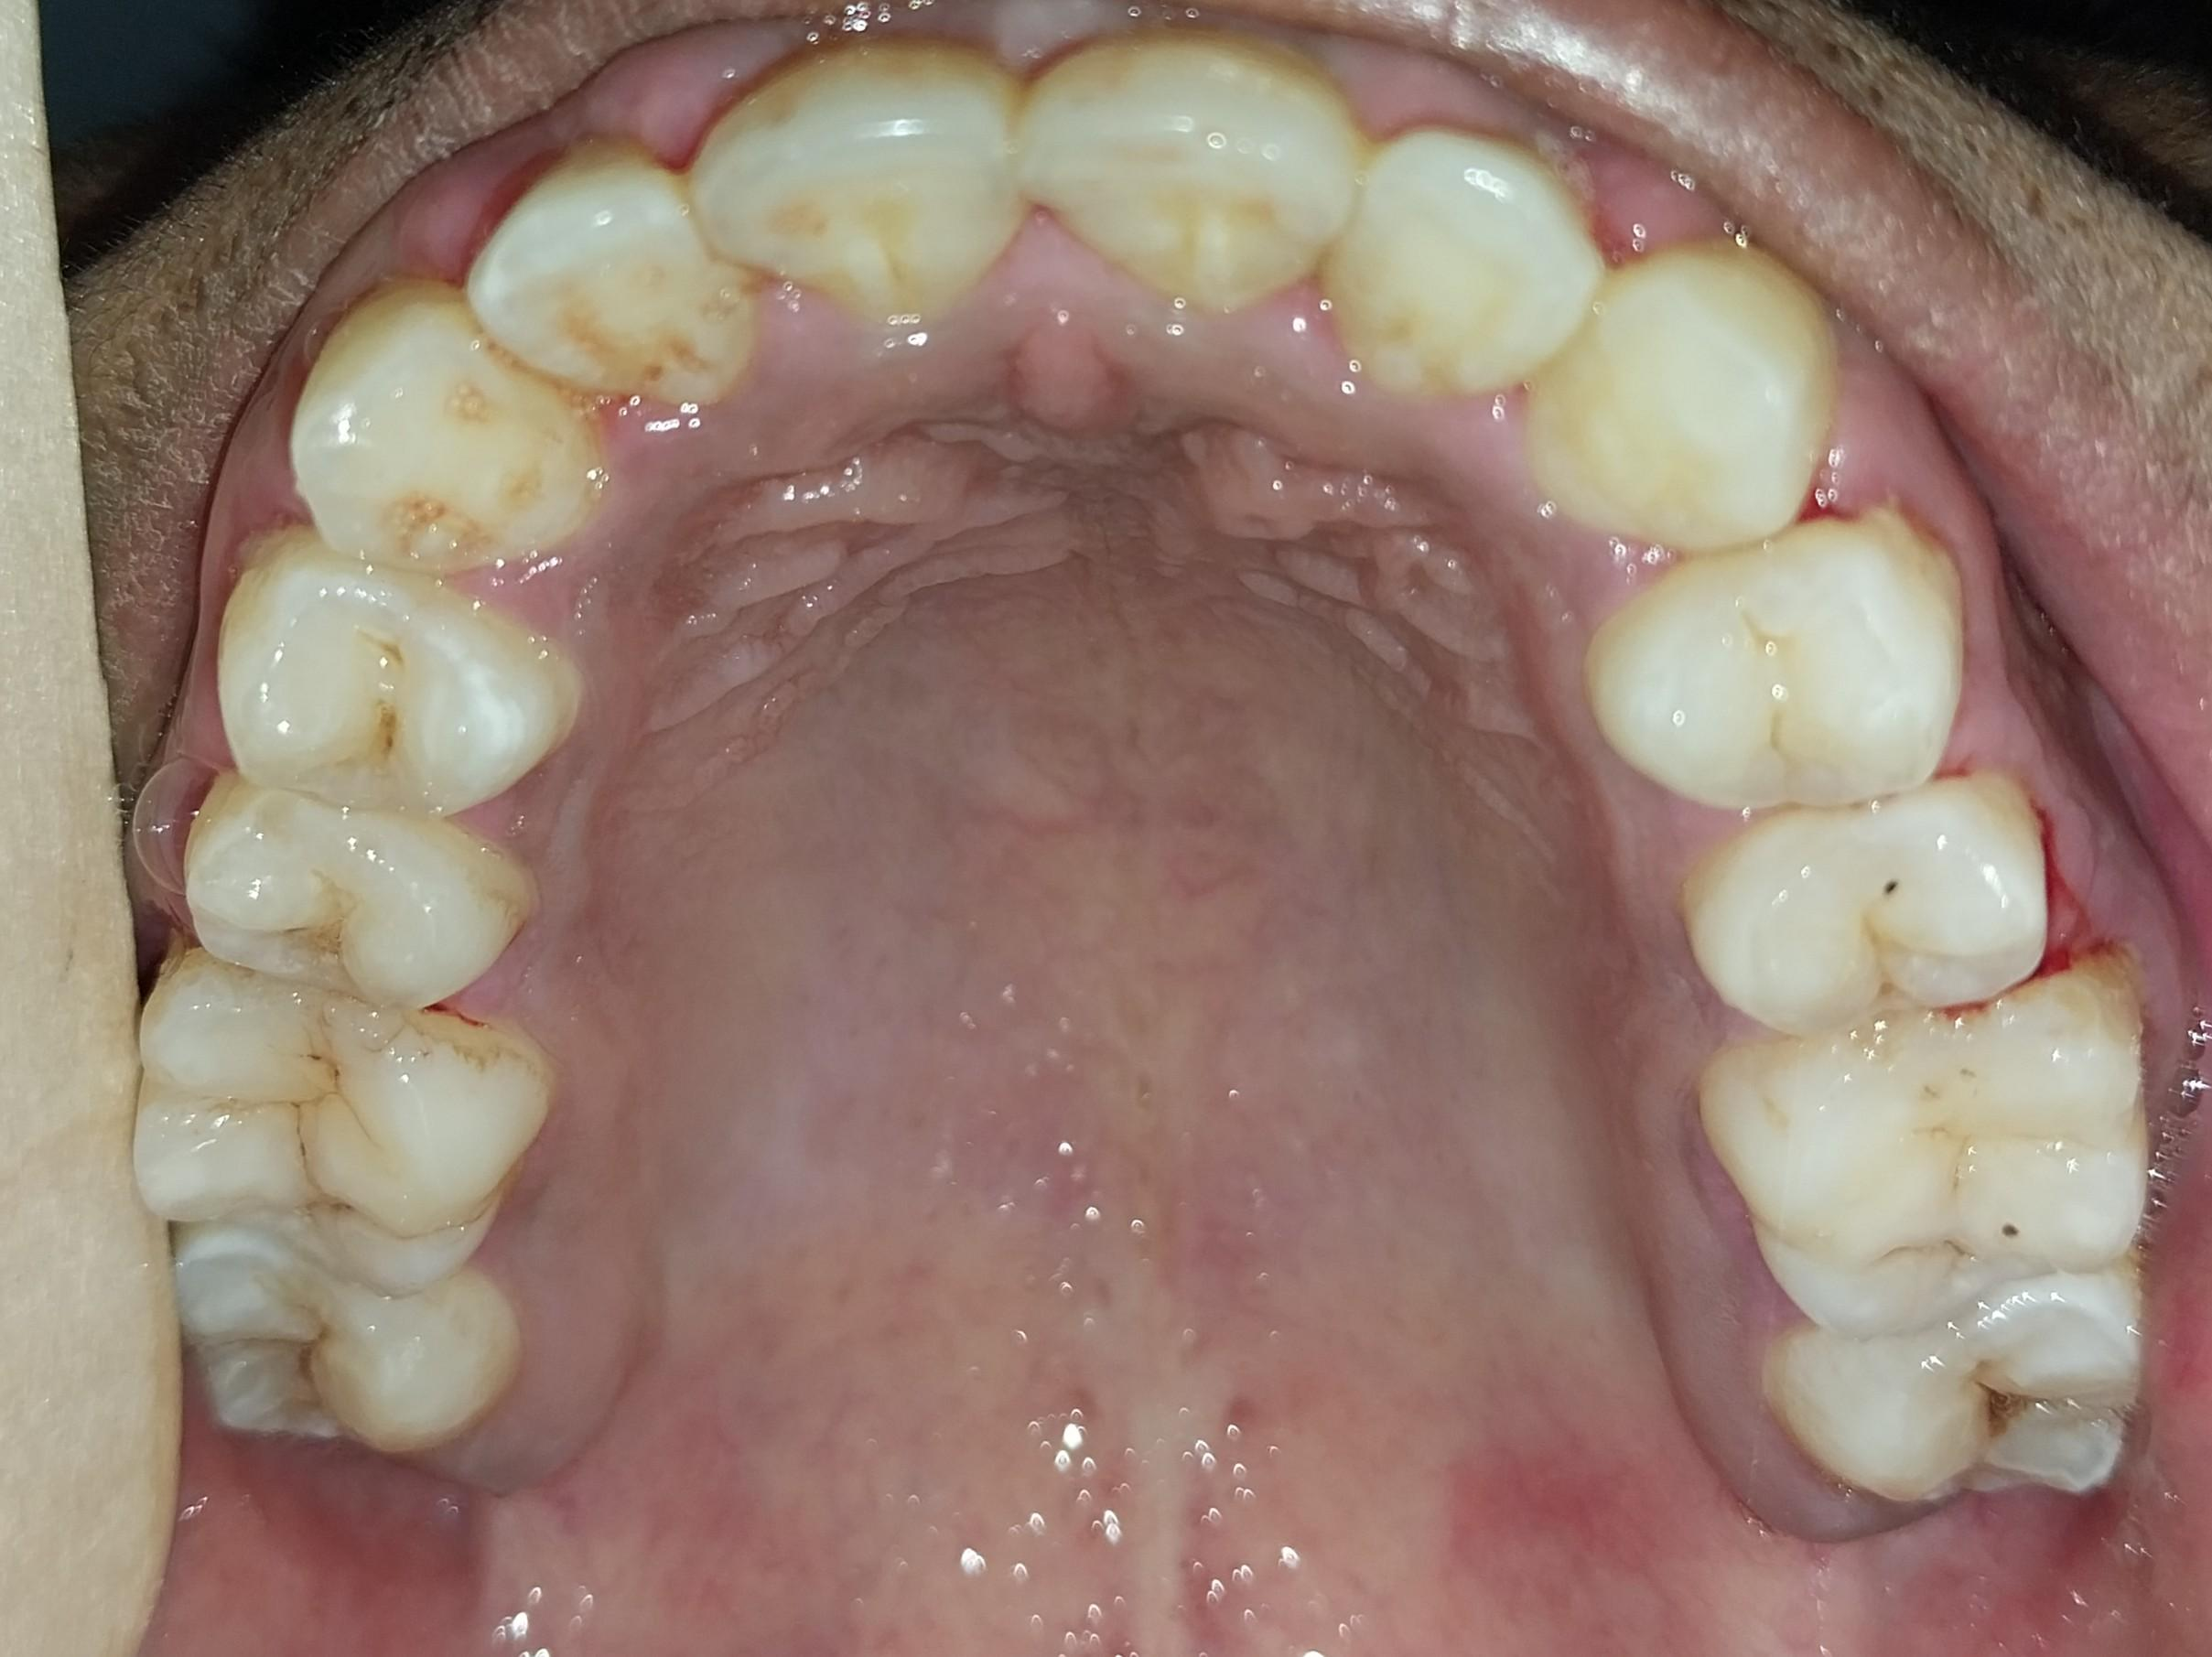D: (1706, 962, 2153, 1328), (1689, 773, 2042, 1034), (1765, 1272, 2149, 1501)
